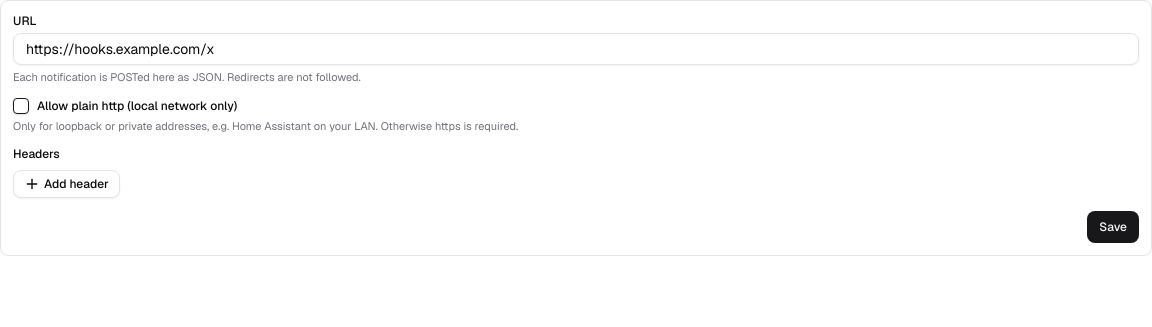
Test case: webhook headers › a refusal names the status, a failure without a message the generic save error
The image size is (1152, 327).
Click the button "Save": [1113, 227] box [1087, 211, 1139, 243]
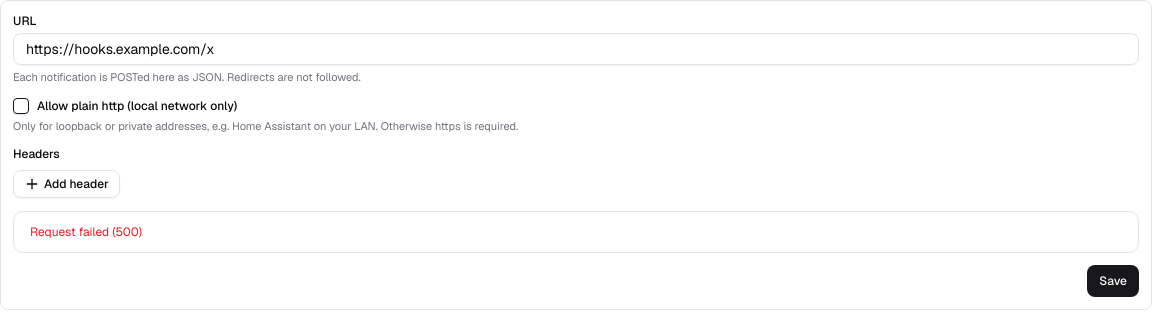
Check: the message reads "Request failed (500)", box [30, 224, 142, 240]
Click the button "Save": [1113, 281] box [1087, 265, 1139, 297]
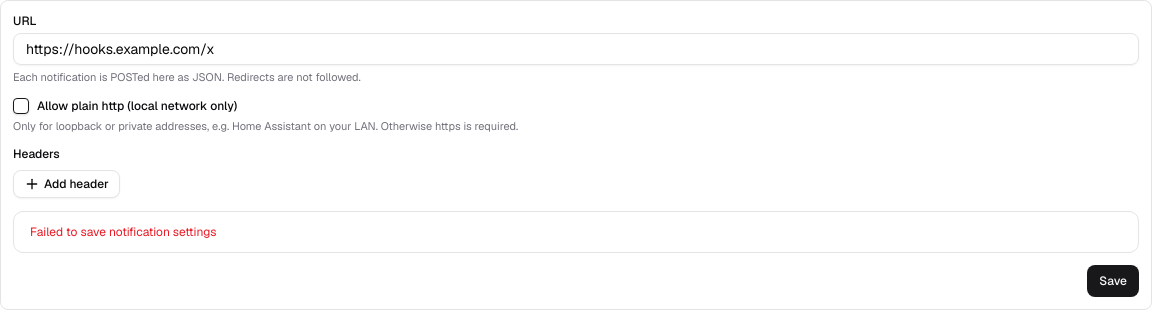
Check: the message reads "Failed to save notification settings", box [30, 224, 216, 240]
